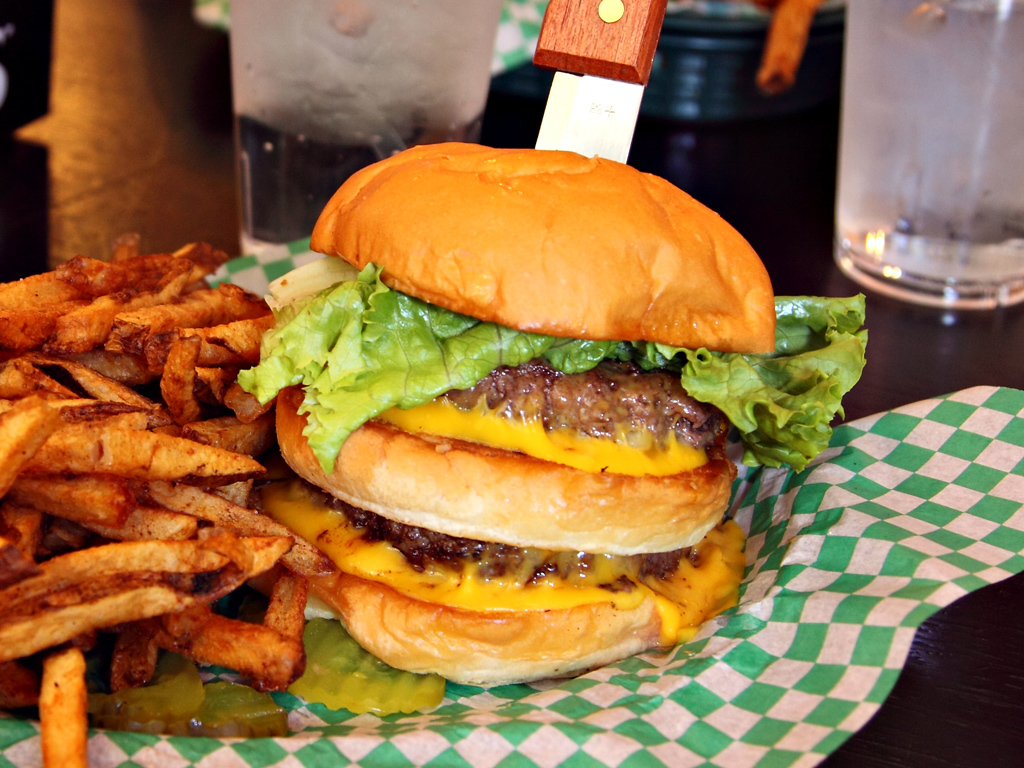Hamburger: (234, 141, 871, 681)
